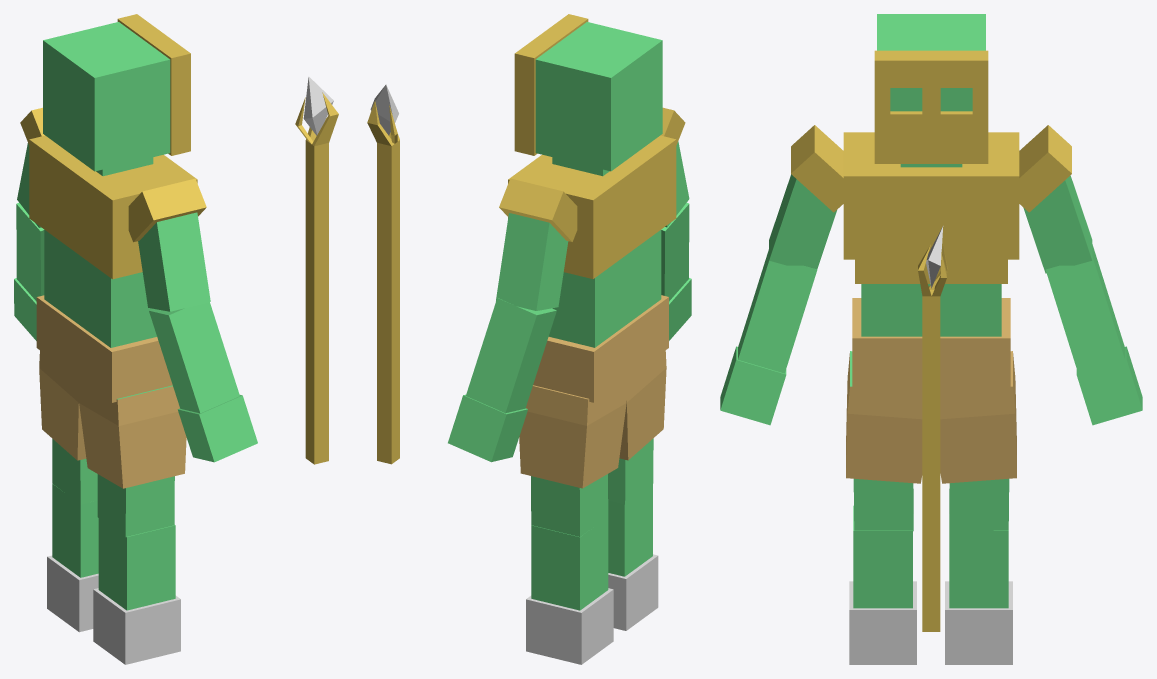
Rendered from heal_goblin.fbx.
3 renders of one model, left to right at view 1: azimuth 30°, elevation 25°; view 2: azimuth 150°, elevation 25°; view 3: azimuth 270°, elevation 25°, orthographic. The views are drawn at different scales.
Parts seen in each view (by area): view 1: Cube.085, Cube.093, Cube.099, Cube.101, Cube.100, Cube.096, Cube.088, Cube.086, Cube.084, Cube.095, Cube.089, Cube.087 (+9 smaller); view 2: Cube.085, Cube.095, Cube.099, Cube.101, Cube.100, Cube.096, Cube.097, Cube.092, Cube.098, Cube.093, Cube.090, Cube.091 (+9 smaller); view 3: Cube.099, Cube.082, Cube.095, Cube.093, Cube.096, Cube.101, Cube.100, Cube.097, Cube.088, Cube.085, Cube.086, Cube.092 (+9 smaller).
Part boxes in pixels (<box>): Cube.085: <box>43,22,170,171</box>; Cube.093: <box>78,378,186,536</box>; Cube.099: <box>29,135,197,279</box>; Cube.101: <box>295,92,338,464</box>; Cube.100: <box>44,230,156,347</box>; Cube.096: <box>36,295,172,402</box>; Cube.088: <box>149,302,239,413</box>; Cube.086: <box>98,518,175,610</box>; Cube.084: <box>138,212,210,311</box>; Cube.095: <box>39,350,97,504</box>; Cube.089: <box>93,588,180,664</box>; Cube.087: <box>177,395,257,462</box>; Cube.085: <box>535,22,662,171</box>; Cube.095: <box>519,378,627,536</box>; Cube.099: <box>508,135,676,278</box>; Cube.101: <box>367,100,399,464</box>; Cube.100: <box>548,230,661,347</box>; Cube.096: <box>533,295,668,402</box>; Cube.097: <box>466,298,556,413</box>; Cube.092: <box>531,517,608,610</box>; Cube.098: <box>496,213,568,310</box>; Cube.093: <box>608,350,666,504</box>; Cube.090: <box>526,588,613,664</box>; Cube.091: <box>448,394,527,462</box>; Cube.099: <box>843,132,1019,259</box>; Cube.082: <box>874,50,988,163</box>; Cube.095: <box>940,351,1016,531</box>; Cube.093: <box>846,351,922,531</box>; Cube.096: <box>852,298,1010,392</box>; Cube.101: <box>918,245,948,631</box>; Cube.100: <box>861,284,1001,336</box>; Cube.097: <box>1045,244,1124,373</box>; Cube.088: <box>738,249,817,373</box>; Cube.085: <box>877,14,985,111</box>; Cube.086: <box>853,505,912,608</box>; Cube.092: <box>949,530,1008,608</box>.
Bounding box in the file's own units: 317 × 671 × 417.
